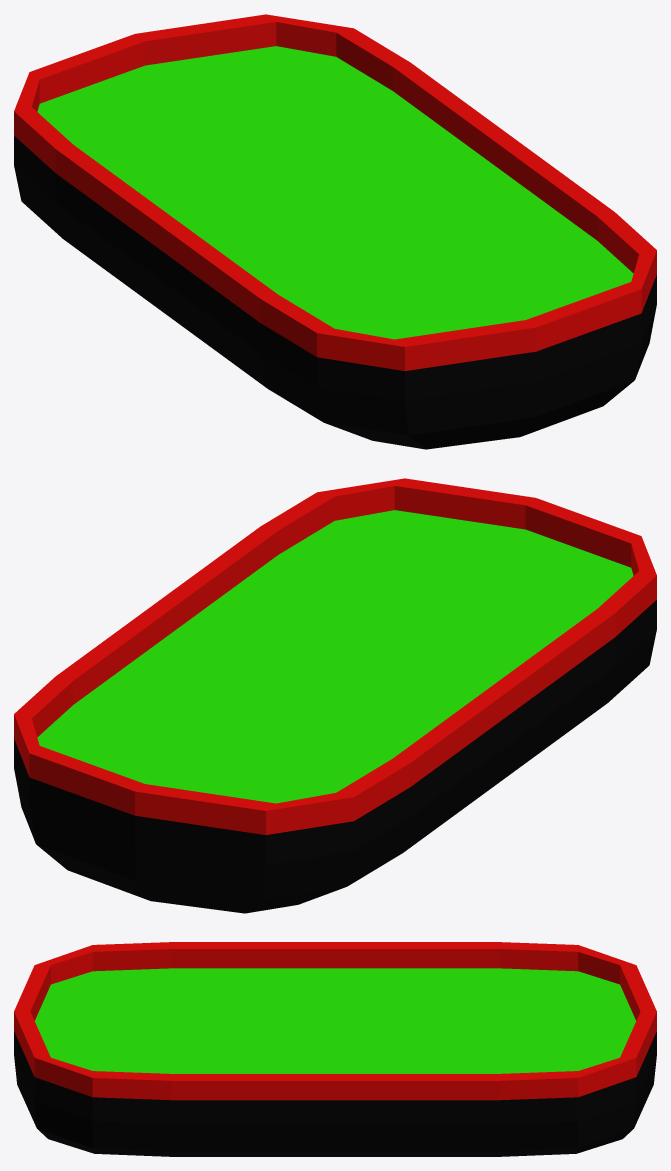
The model's file is krishka.glb.
3 views of the same model, one above another, from view 1: azimuth 30°, elevation 25°; view 2: azimuth 150°, elevation 25°; view 3: azimuth 270°, elevation 25° (orthographic). The views are drawn at different scales.
Visible parts, largest first — view 1: Cube; view 2: Cube; view 3: Cube.
Boxes of the visible parts, x1,y1,x2,y2 form: Cube: (14,14,656,449); Cube: (14,478,656,913); Cube: (14,942,656,1156).
Size of the model in its own units: 2 by 0.7292 by 3.92.
